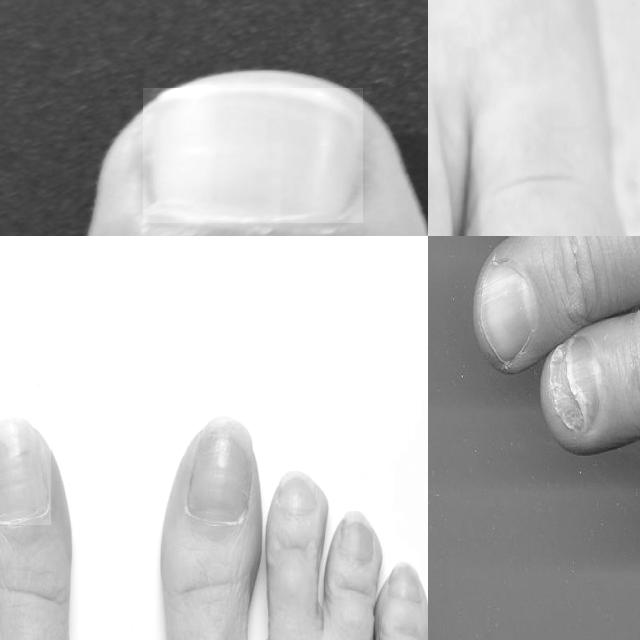diabetes: (188, 426, 253, 522), (0, 417, 51, 525), (547, 337, 601, 435), (342, 513, 374, 558), (278, 476, 313, 514)
sehat: (143, 88, 363, 223), (480, 259, 535, 363), (390, 567, 421, 603)
